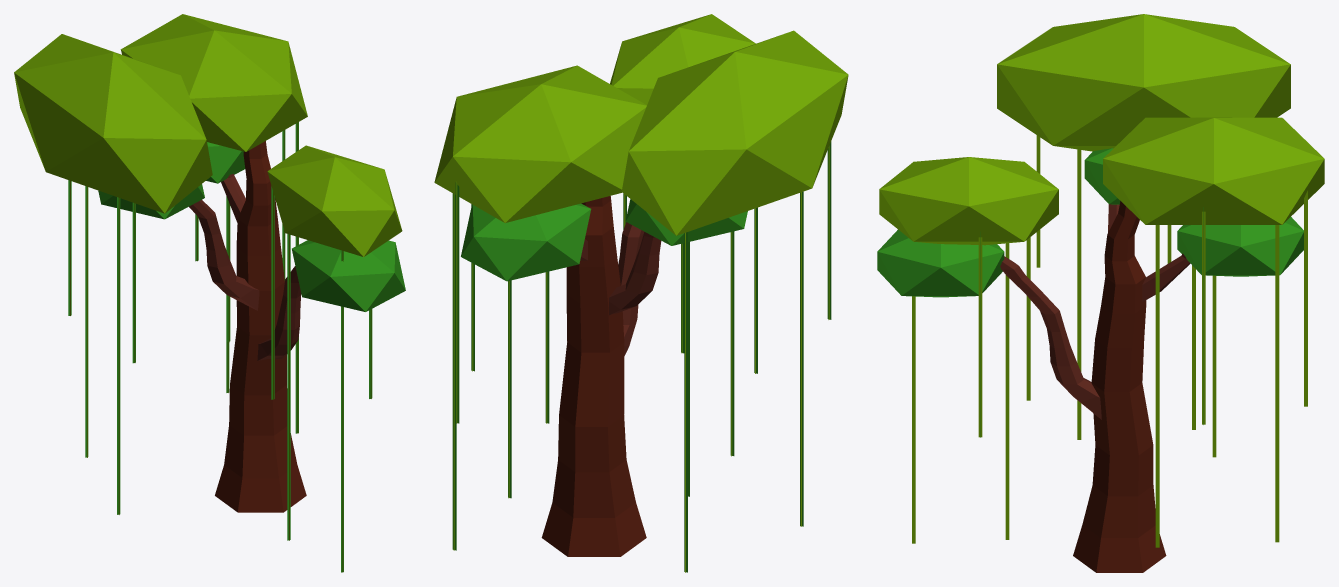
The model's file is jungletree.fbx.
3 views of the same model, side by side, from view 1: azimuth 30°, elevation 25°; view 2: azimuth 150°, elevation 25°; view 3: azimuth 270°, elevation 25° (orthographic). The views are drawn at different scales.
Parts seen in each view (by area): view 1: veils; view 2: veils; view 3: veils.
Boxes of the visible parts, x1,y1,x2,y2 form: veils: (14, 14, 405, 572); veils: (434, 14, 848, 572); veils: (877, 14, 1324, 572).
Bounding box in the file's own units: 853 × 1376 × 1175.
